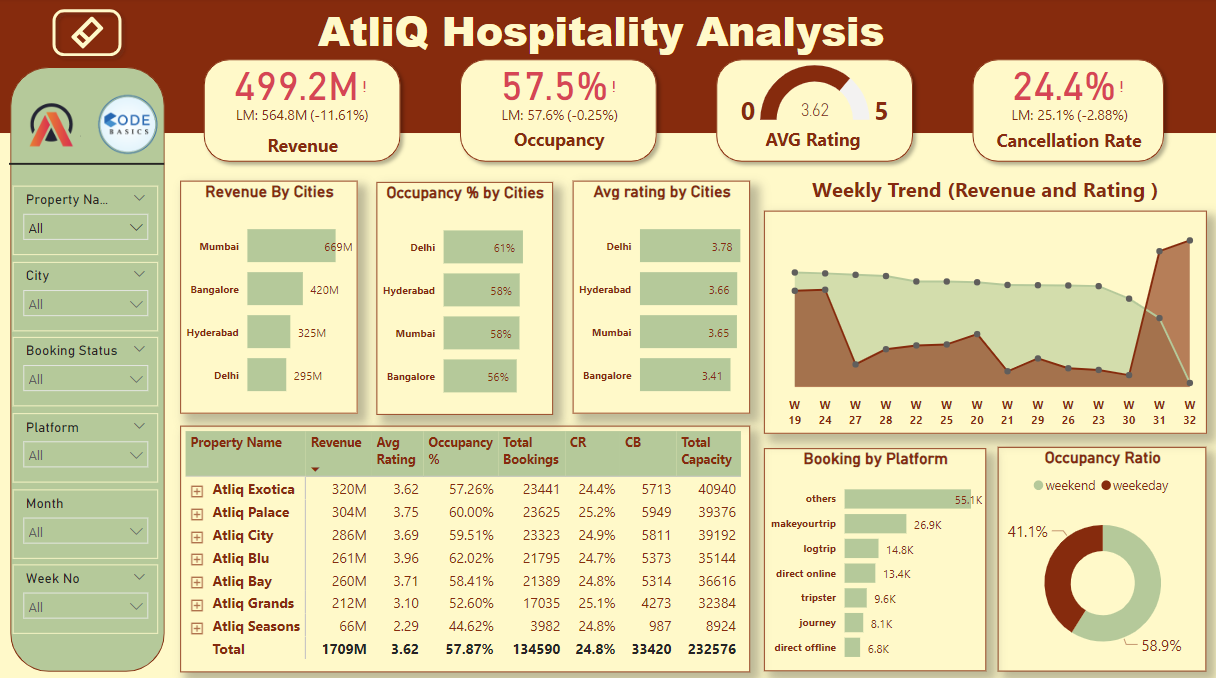

Layout of this report page (visuals, bound fields, positions):
{"tool":"powerbi","page":{"name":"Overall Analysis","canvas":[1280,720],"ordinal":0},"visuals":[{"type":"shape","box":[11.4,73.6,162.4,635.8],"z":0},{"type":"textbox","box":[0,0,1280.5,73.7],"z":1000},{"type":"slicer","fields":{"Values":["dim_hotels.property_name"]},"box":[14.1,198.4,153,72.5],"z":2000},{"type":"slicer","fields":{"Values":["dim_hotels.city"]},"box":[14.1,278.1,153,72.5],"z":3000},{"type":"slicer","fields":{"Values":["fact_bookings.booking_status"]},"box":[14.1,357.8,153,72.5],"z":4000},{"type":"shape","box":[206.9,57.1,225,125.6],"z":5000},{"type":"slicer","fields":{"Values":["fact_bookings.booking_platform"]},"box":[14.1,437.5,153,72.5],"z":6000},{"type":"slicer","fields":{"Values":["dim_date.Month"]},"box":[14.1,517.3,153,72.5],"z":7000},{"type":"slicer","fields":{"Values":["dim_date.week no"]},"box":[14.1,597,153,72.5],"z":8000},{"type":"image","box":[14.5,93,76.1,82.1],"z":9000},{"type":"image","box":[97.8,91.8,76.1,84.6],"z":10000},{"type":"shape","box":[10.9,159.5,163.1,32.6],"z":11000},{"type":"shape","box":[476.3,57.1,225,125.6],"z":12000},{"type":"shape","box":[1015.3,57.1,219.6,125.6],"z":13000},{"type":"barChart","title":"Revenue By Cities","fields":{"Category":["dim_hotels.city"],"Y":["Measure Table.Revenue"]},"box":[190.4,192.9,186,244.9],"z":14000},{"type":"shape","box":[745.8,57.1,225,125.6],"z":15000},{"type":"gauge","fields":{"Y":["Measure Table.Average Rating"]},"box":[770.3,62.2,175.1,82.5],"z":16000},{"type":"barChart","title":"Occupancy % by Cities","fields":{"Category":["dim_hotels.city"],"Y":["Measure Table.Occupancy %"]},"box":[396.9,194.2,185.3,244.9],"z":17000},{"type":"barChart","title":"Avg rating by Cities","fields":{"Category":["dim_hotels.city"],"Y":["Measure Table.Average Rating"]},"box":[602.8,192.9,186.6,244.9],"z":18000},{"type":"pivotTable","fields":{"Rows":["dim_hotels.property_name","dim_hotels.city"],"Values":["Measure Table.Revenue","Measure Table.Average Rating","Measure Table.Occupancy %","Measure Table.Total Booking","Measure Table.Cancellation %","Measure Table.Total cancelled bookings","Measure Table.Total Capacity"]},"box":[190.4,450.5,599,258.9],"z":19000},{"type":"areaChart","fields":{"Category":["dim_date.week no"],"Y":["Measure Table.Revenue"],"Y2":["Measure Table.Average Rating"]},"box":[804.6,224.6,465.8,234.8],"z":20000},{"type":"donutChart","title":"Occupancy Ratio","fields":{"Category":["dim_date.day_type"],"Y":["Measure Table.Occupancy %"]},"box":[1050.8,473.4,219.6,236.1],"z":21000},{"type":"barChart","title":"Booking by Platform","fields":{"Category":["fact_bookings.booking_platform"],"Y":["Measure Table.Total Booking"]},"box":[804.6,474.6,233.5,234.8],"z":22000},{"type":"actionButton","box":[47.3,3.9,90.7,67],"z":23000},{"type":"textbox","box":[223.5,138,191.9,40.7],"z":24000},{"type":"textbox","box":[492.9,131.4,191.9,40.7],"z":25000},{"type":"textbox","box":[762.4,131.4,191.9,40.7],"z":26000},{"type":"textbox","box":[1029.2,132.8,191.9,40.7],"z":27000},{"type":"kpi","fields":{"Indicator":["Measure Table.Revenue"],"Goal":["Measure Table.revenue LM"],"TrendLine":["dim_date.date.Variation.Date Hierarchy.Month"]},"box":[235.3,61.8,166.9,82.8],"z":28000},{"type":"kpi","fields":{"Goal":["Measure Table.Occupancy % LM"],"TrendLine":["dim_date.date.Variation.Date Hierarchy.Month"],"Indicator":["Measure Table.Occupancy %"]},"box":[506.1,61.8,166.9,82.8],"z":29000},{"type":"kpi","fields":{"Goal":["Measure Table.cancellation rate LM"],"TrendLine":["dim_date.date.Variation.Date Hierarchy.Month"],"Indicator":["Measure Table.Cancellation %"]},"box":[1040.8,68.7,167.6,83.2],"z":30000},{"type":"textbox","box":[804.4,182.7,465.3,40.7],"z":31000},{"type":"actionButton","title":"Menu","box":[1208.4,0,71.2,68.7],"z":32000}]}

Visuals, with their boxes in screenshot pixels (x1, y1, x2, y2), scaled from the page's 1280x720 canvas onto the 1216x678 screenshot:
shape: box(11, 69, 165, 668)
textbox: box(0, 0, 1215, 69)
slicer - dim_hotels.property_name: box(13, 187, 159, 255)
slicer - dim_hotels.city: box(13, 262, 159, 330)
slicer - fact_bookings.booking_status: box(13, 337, 159, 405)
shape: box(197, 54, 410, 172)
slicer - fact_bookings.booking_platform: box(13, 412, 159, 480)
slicer - dim_date.Month: box(13, 487, 159, 555)
slicer - dim_date.week no: box(13, 562, 159, 630)
image: box(14, 88, 86, 165)
image: box(93, 86, 165, 166)
shape: box(10, 150, 165, 181)
shape: box(452, 54, 666, 172)
shape: box(965, 54, 1173, 172)
"Revenue By Cities" barChart: box(181, 182, 358, 412)
shape: box(709, 54, 922, 172)
gauge - Measure Table.Average Rating: box(732, 59, 898, 136)
"Occupancy % by Cities" barChart: box(377, 183, 553, 413)
"Avg rating by Cities" barChart: box(573, 182, 750, 412)
pivotTable - dim_hotels.property_name x dim_hotels.city: box(181, 424, 750, 668)
areaChart - dim_date.week no x Measure Table.Revenue: box(764, 211, 1207, 433)
"Occupancy Ratio" donutChart: box(998, 446, 1207, 668)
"Booking by Platform" barChart: box(764, 447, 986, 668)
actionButton: box(45, 4, 131, 67)
textbox: box(212, 130, 395, 168)
textbox: box(468, 124, 651, 162)
textbox: box(724, 124, 907, 162)
textbox: box(978, 125, 1160, 163)
kpi - Measure Table.Revenue x Measure Table.revenue LM: box(224, 58, 382, 136)
kpi - Measure Table.Occupancy % LM x dim_date.date.Variation.Date Hierarchy.Month: box(481, 58, 639, 136)
kpi - Measure Table.cancellation rate LM x dim_date.date.Variation.Date Hierarchy.Month: box(989, 65, 1148, 143)
textbox: box(764, 172, 1206, 210)
"Menu" actionButton: box(1148, 0, 1215, 65)
